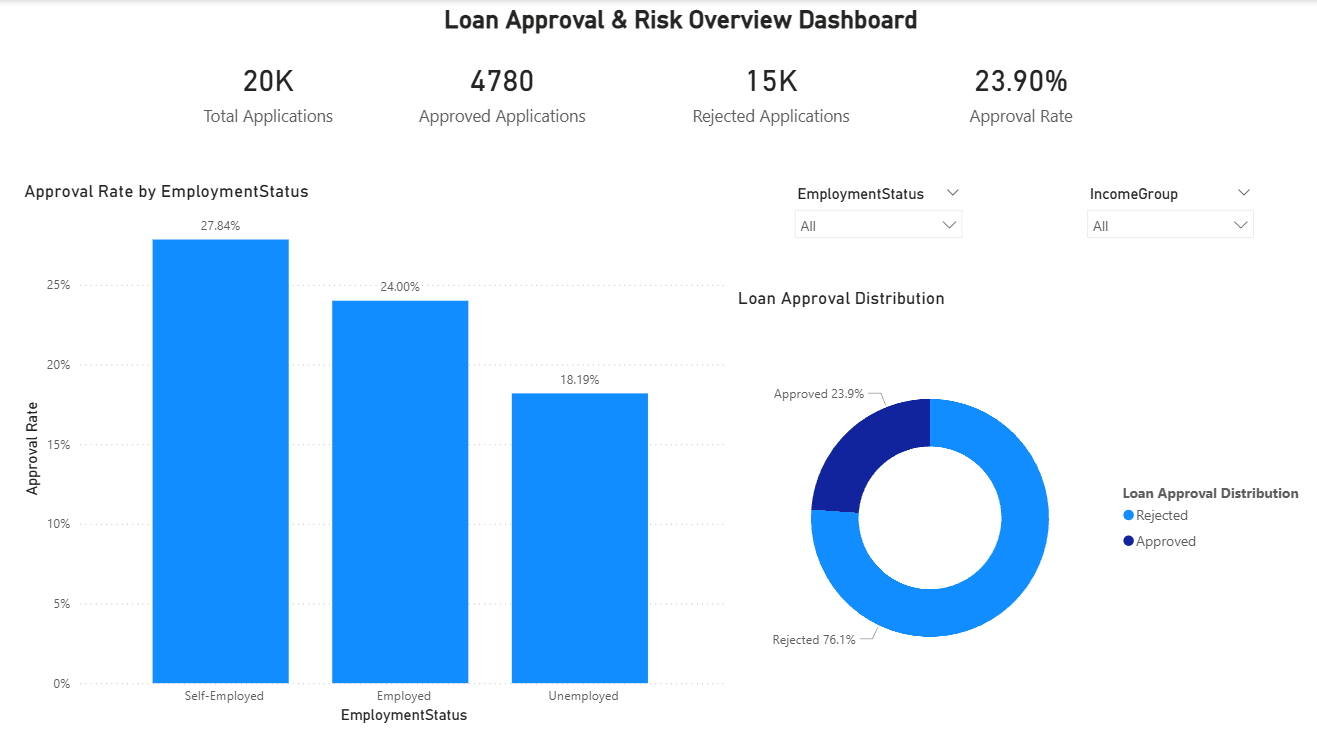

Layout of this report page (visuals, bound fields, positions):
{"tool":"powerbi","page":{"name":"Page 1","canvas":[1280,720],"ordinal":0},"visuals":[{"type":"clusteredColumnChart","fields":{"Y":["LoanData.Approval Rate"],"Category":["LoanData.EmploymentStatus"]},"box":[24.1,173.7,688.9,529.6],"z":0},{"type":"card","fields":{"Values":["LoanData.Total Applications"]},"box":[191.8,36.7,146,101.3],"z":1000},{"type":"card","fields":{"Values":["LoanData.Approved Applications"]},"box":[379.7,36.7,221.2,101.5],"z":2000},{"type":"card","fields":{"Values":["LoanData.Rejected Applications"]},"box":[647.4,36.7,204.5,101.5],"z":3000},{"type":"card","fields":{"Values":["LoanData.Approval Rate"]},"box":[897.4,36.7,187.9,101.5],"z":4000},{"type":"donutChart","title":"Loan Approval Distribution","fields":{"Category":["LoanData.Loan Status"],"Y":["LoanData.Total Applications"]},"box":[713,277.5,556.2,425.9],"z":5000},{"type":"slicer","fields":{"Values":["LoanData.EmploymentStatus"]},"box":[762.5,173.7,182.2,62.7],"z":8000},{"type":"slicer","fields":{"Values":["LoanData.IncomeGroup"]},"box":[1044.8,173.7,181,62.7],"z":10000},{"type":"textbox","box":[220.8,0,380,12.1],"z":10001},{"type":"textbox","box":[429.5,0,830,44.6],"z":10002}]}

Visuals, with their boxes in screenshot pixels (x1, y1, x2, y2), scaled from the page's 1280x720 canvas onto the 1317x744 screenshot:
clusteredColumnChart - LoanData.Approval Rate x LoanData.EmploymentStatus: detection(25, 179, 734, 727)
card - LoanData.Total Applications: detection(197, 38, 348, 143)
card - LoanData.Approved Applications: detection(391, 38, 618, 143)
card - LoanData.Rejected Applications: detection(666, 38, 877, 143)
card - LoanData.Approval Rate: detection(923, 38, 1117, 143)
"Loan Approval Distribution" donutChart: detection(734, 287, 1306, 727)
slicer - LoanData.EmploymentStatus: detection(785, 179, 972, 244)
slicer - LoanData.IncomeGroup: detection(1075, 179, 1261, 244)
textbox: detection(227, 0, 618, 13)
textbox: detection(442, 0, 1296, 46)
